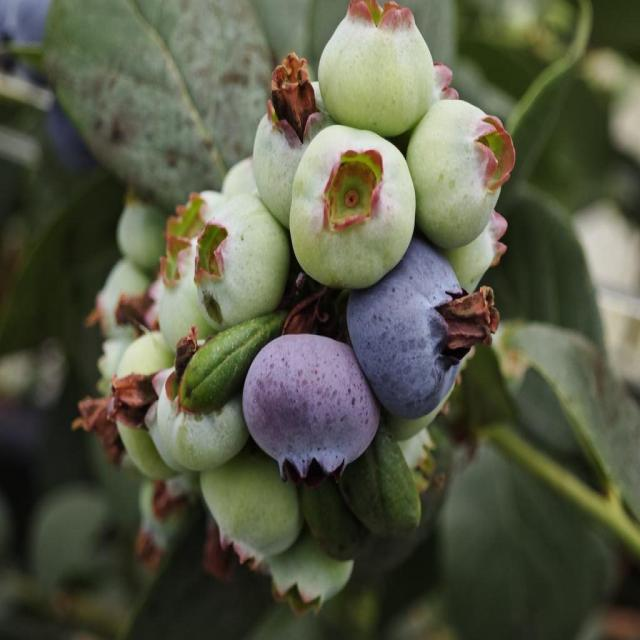RipeBlueBerry: (348, 238, 483, 422)
Semi-RipeBlueBerry: (240, 329, 382, 479)
UnripeBlueBerry: (287, 122, 416, 292), (319, 0, 437, 136), (407, 100, 507, 248), (192, 192, 290, 323), (157, 340, 249, 476)
